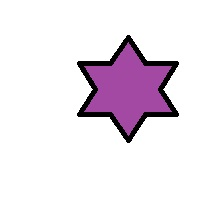star: (77, 35, 179, 144)
